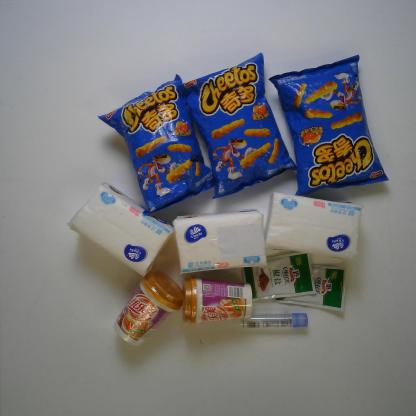Instant Drink: (113, 269, 186, 345), (181, 275, 254, 324)
Puffed Food: (266, 52, 392, 199), (95, 72, 220, 219), (180, 51, 298, 200)
Seasoner: (243, 250, 321, 302), (274, 262, 350, 314)
Stationery: (239, 310, 313, 332)
Tissue: (62, 182, 178, 281), (262, 186, 370, 268), (170, 208, 271, 279)
